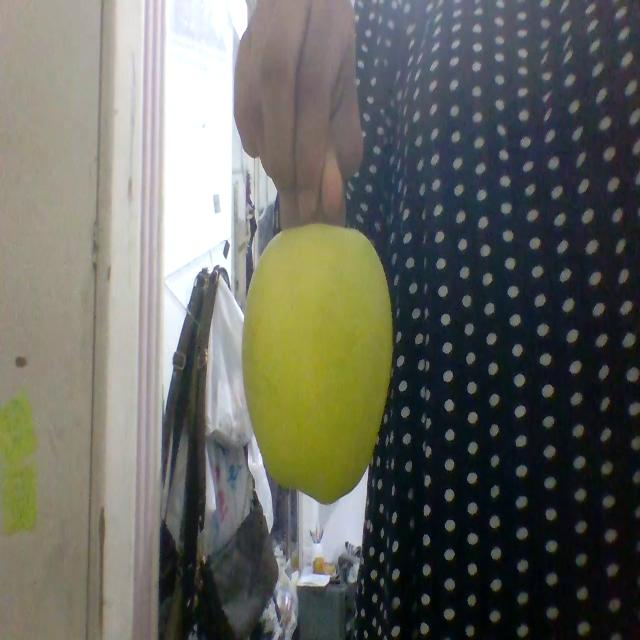50-_ripeness: (241, 224, 393, 503)
